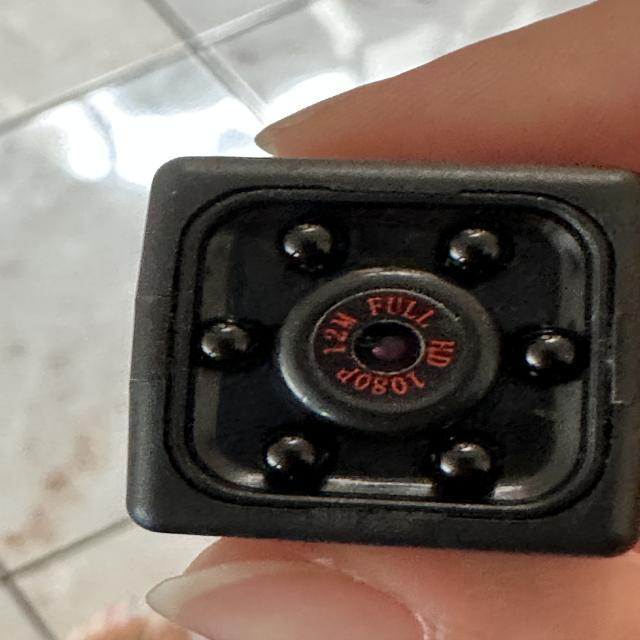hidden camera: (343, 315, 436, 380)
